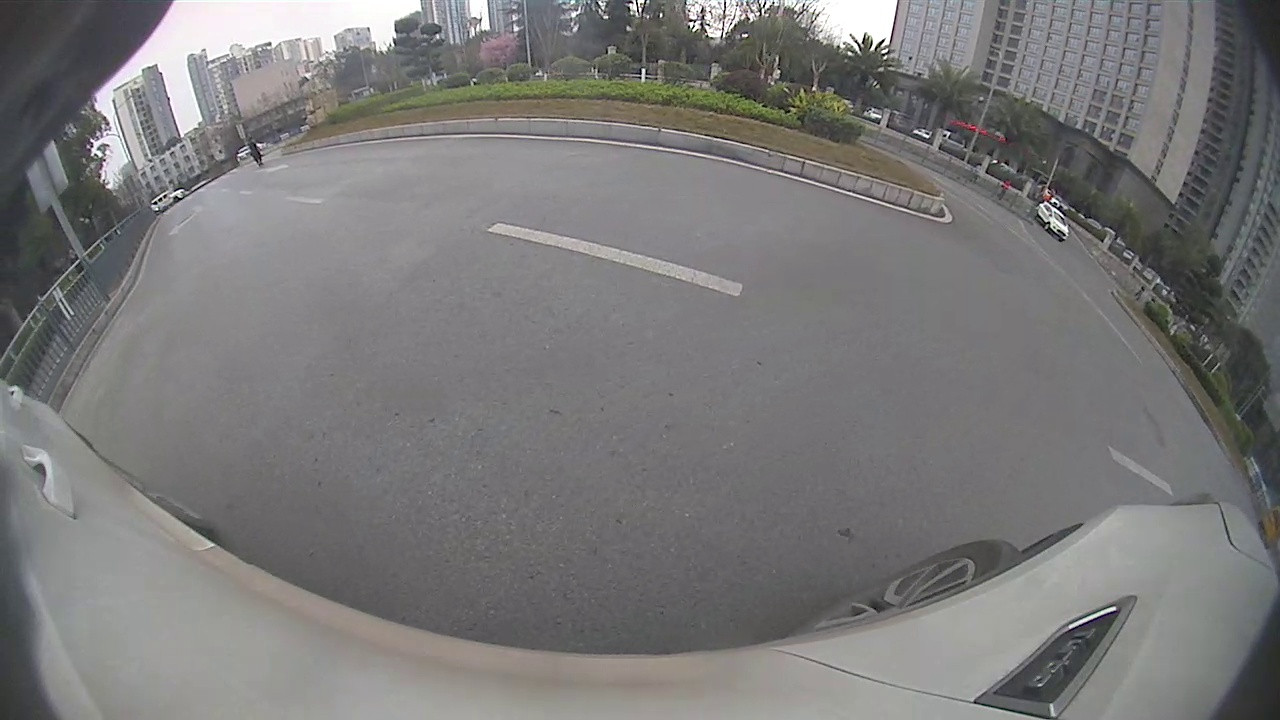car: (1038, 203, 1069, 241)
front: (1042, 221, 1052, 232)
person: (248, 138, 263, 168)
